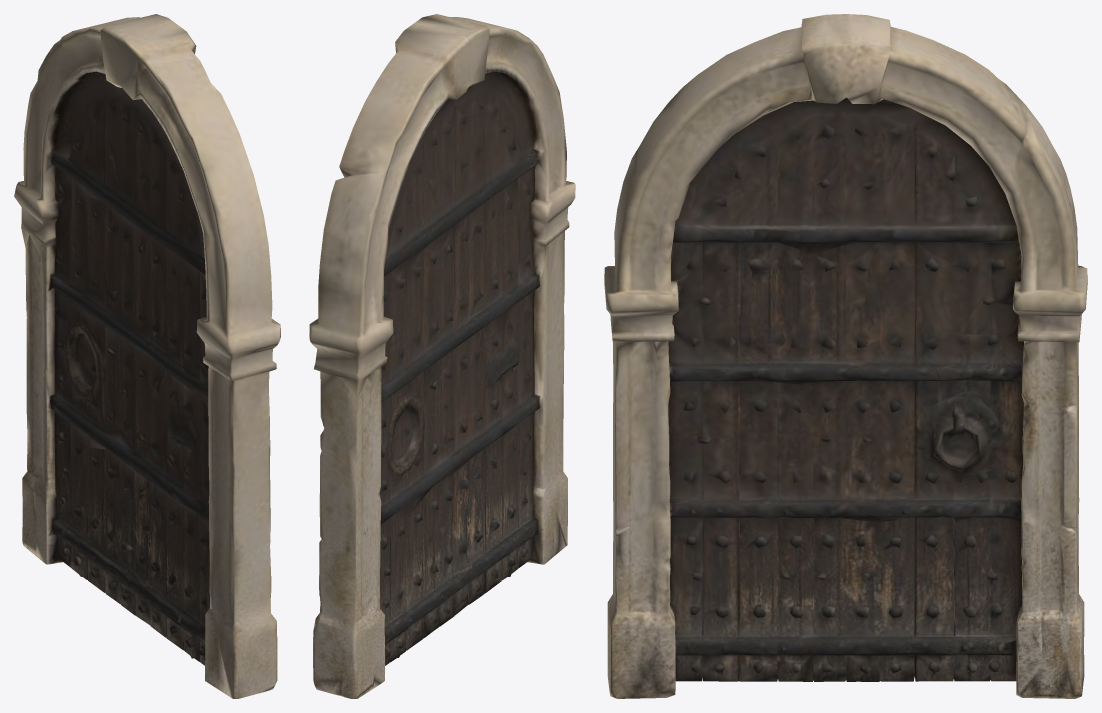
File: door.glb
3 views of the same model, side by side, from view 1: azimuth 30°, elevation 25°; view 2: azimuth 150°, elevation 25°; view 3: azimuth 270°, elevation 25° (orthographic). The views are drawn at different scales.
Visible parts, largest first — view 1: tripo_node_f81579b3-2621-4af4-b757-ac6d0df847a6; view 2: tripo_node_f81579b3-2621-4af4-b757-ac6d0df847a6; view 3: tripo_node_f81579b3-2621-4af4-b757-ac6d0df847a6.
Part boxes in pixels (bbox=[...]): tripo_node_f81579b3-2621-4af4-b757-ac6d0df847a6: bbox=[14, 14, 280, 698]; tripo_node_f81579b3-2621-4af4-b757-ac6d0df847a6: bbox=[309, 14, 575, 698]; tripo_node_f81579b3-2621-4af4-b757-ac6d0df847a6: bbox=[604, 14, 1087, 698].
Size of the model in its own units: 0.1868 by 1.8 by 1.2.
Materials: 1 (1 with a texture image).
